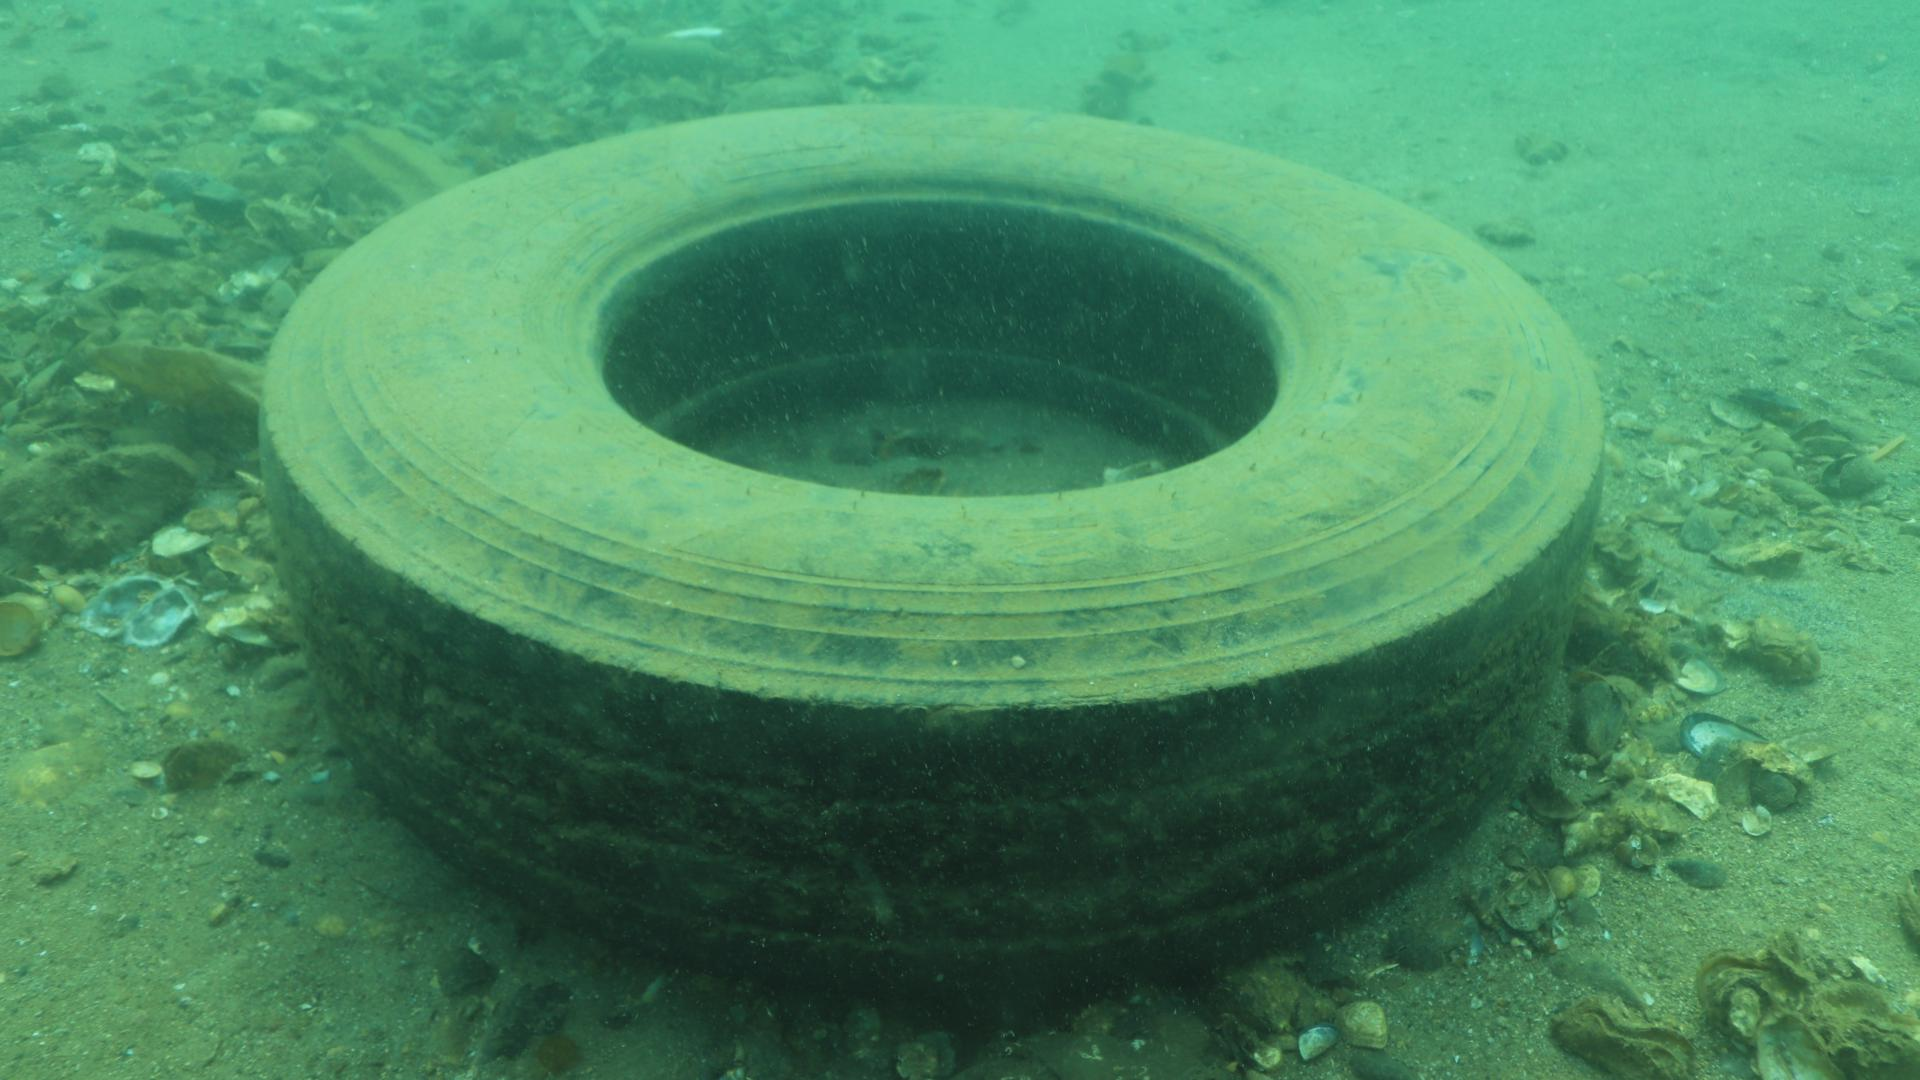tire: (260, 100, 1604, 1015)
